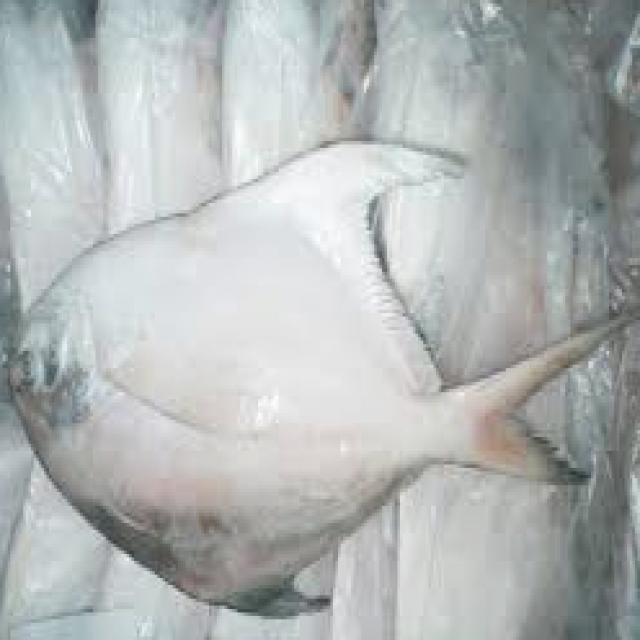pomfred: (5, 145, 640, 614)
